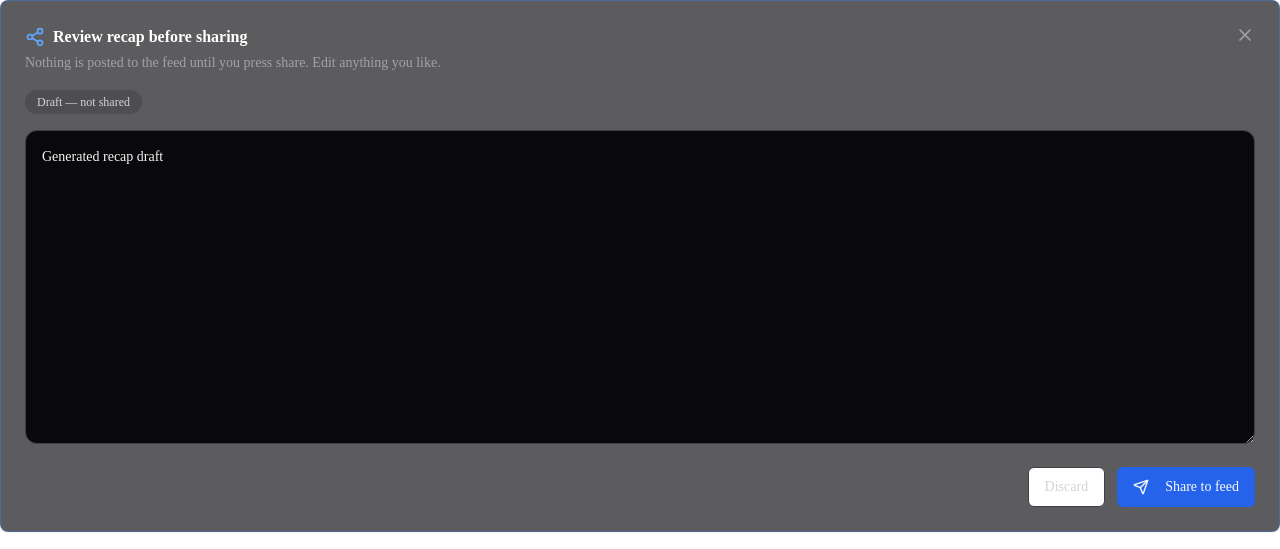
it: the review panel › reports shared only after a successful share
Check: the text "Shared to feed" is not shown
Click the button "Share to feed".
click(1186, 487)  # box [1117,467,1255,507]
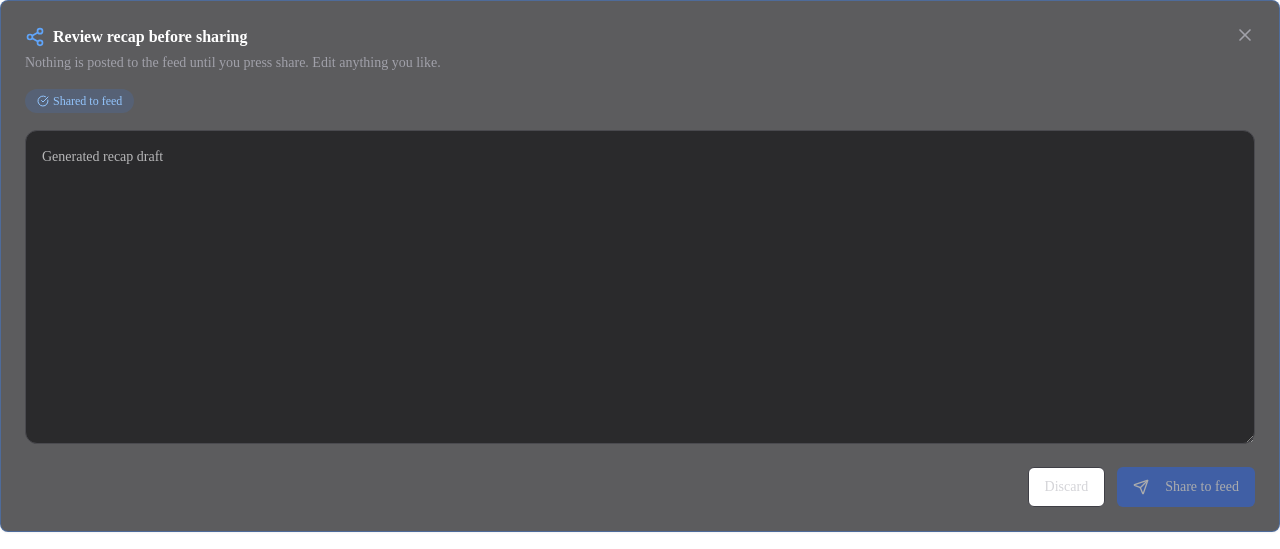
Check: the text "Shared to feed" is shown, box [25,89,134,113]
